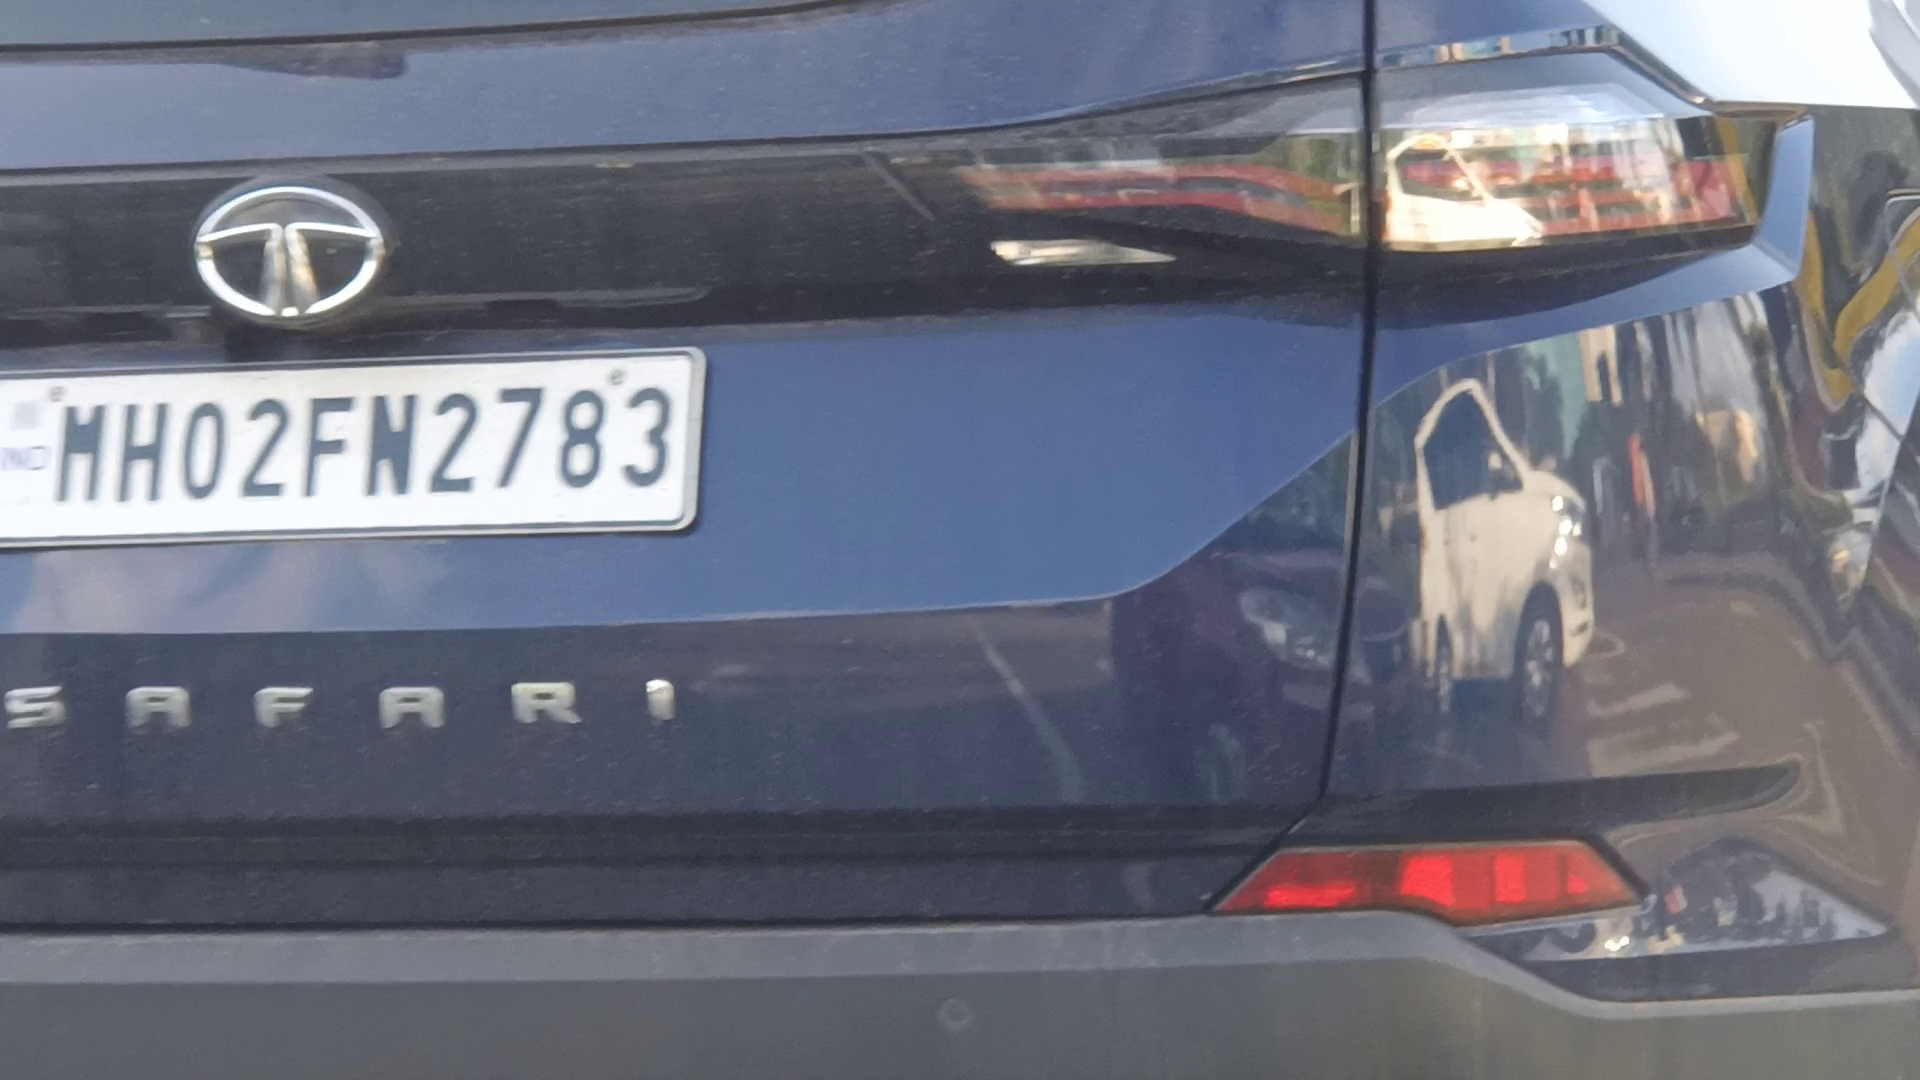MH02FN2783: (1, 351, 696, 523)
